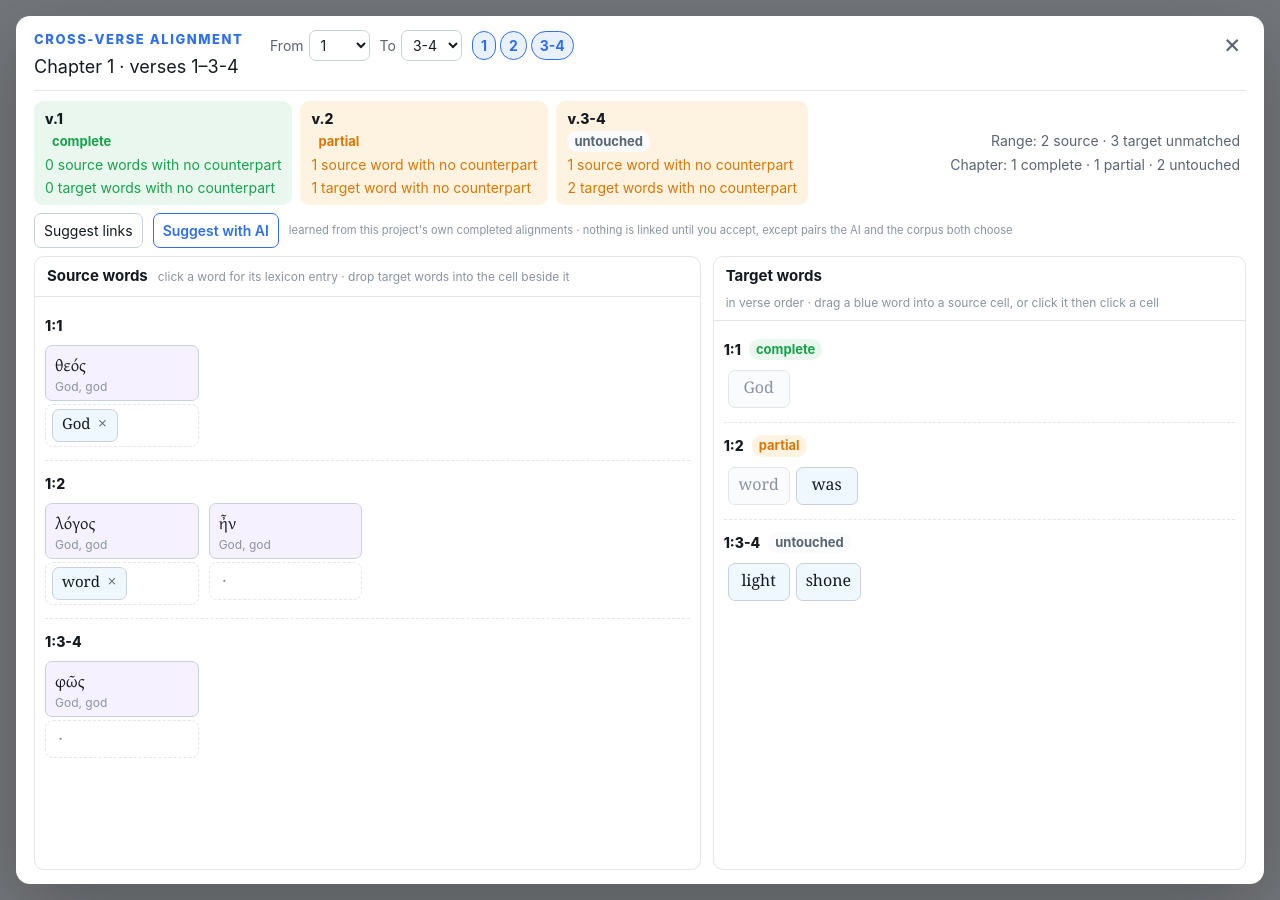
CrossVerseAlignmentModal › a cross-verse drop records a Bridge-private link (#117), patches both verses and rechecks each
Check: the 2nd text "1:2" is shown, box x1=45 y1=472 x2=65 y2=494
Click the button "was" at (827, 486), box x1=796 y1=466 x2=858 y2=504
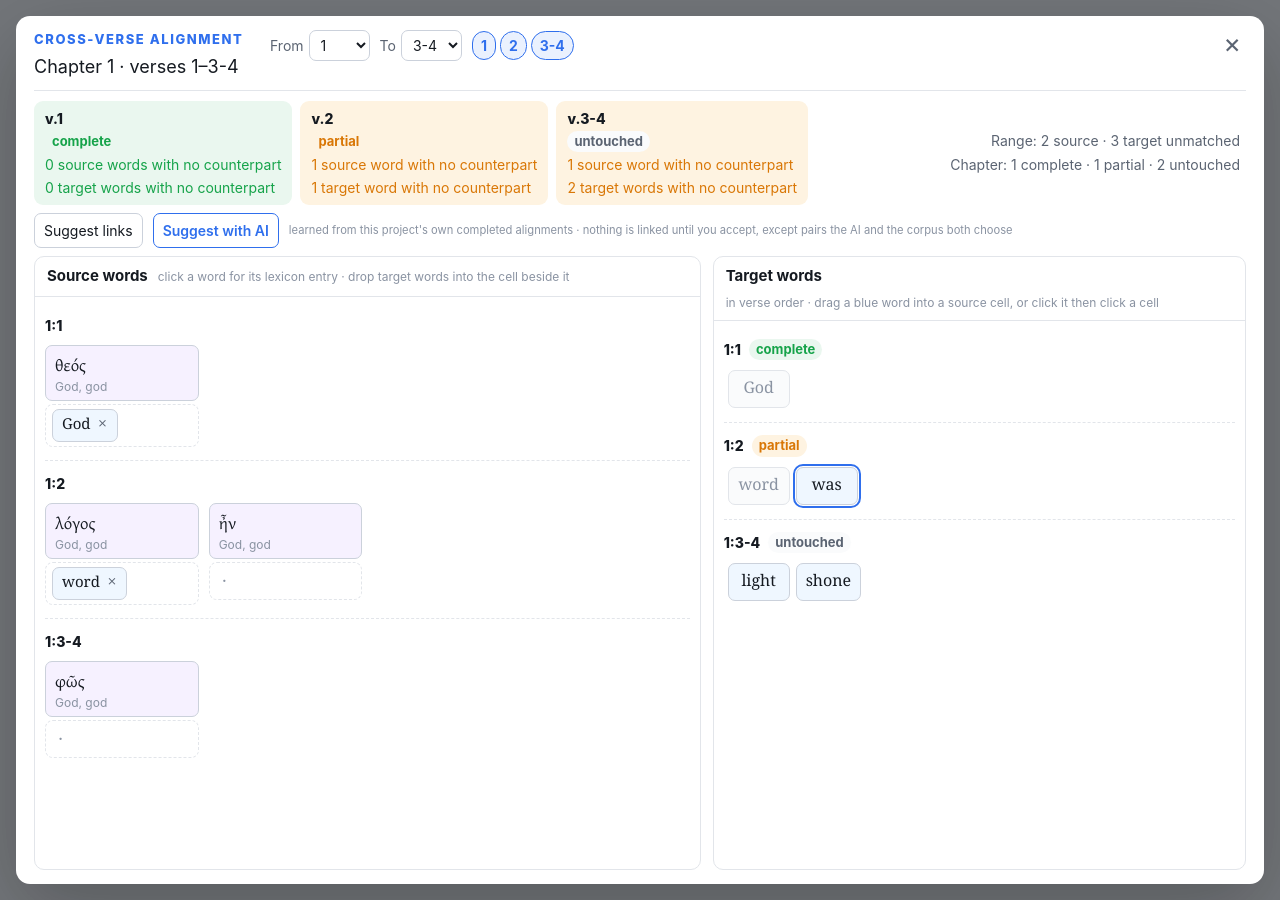
Click the button named "Align picked-up word to φῶς in verse 3-4" at (122, 739), box x1=45 y1=720 x2=199 y2=758
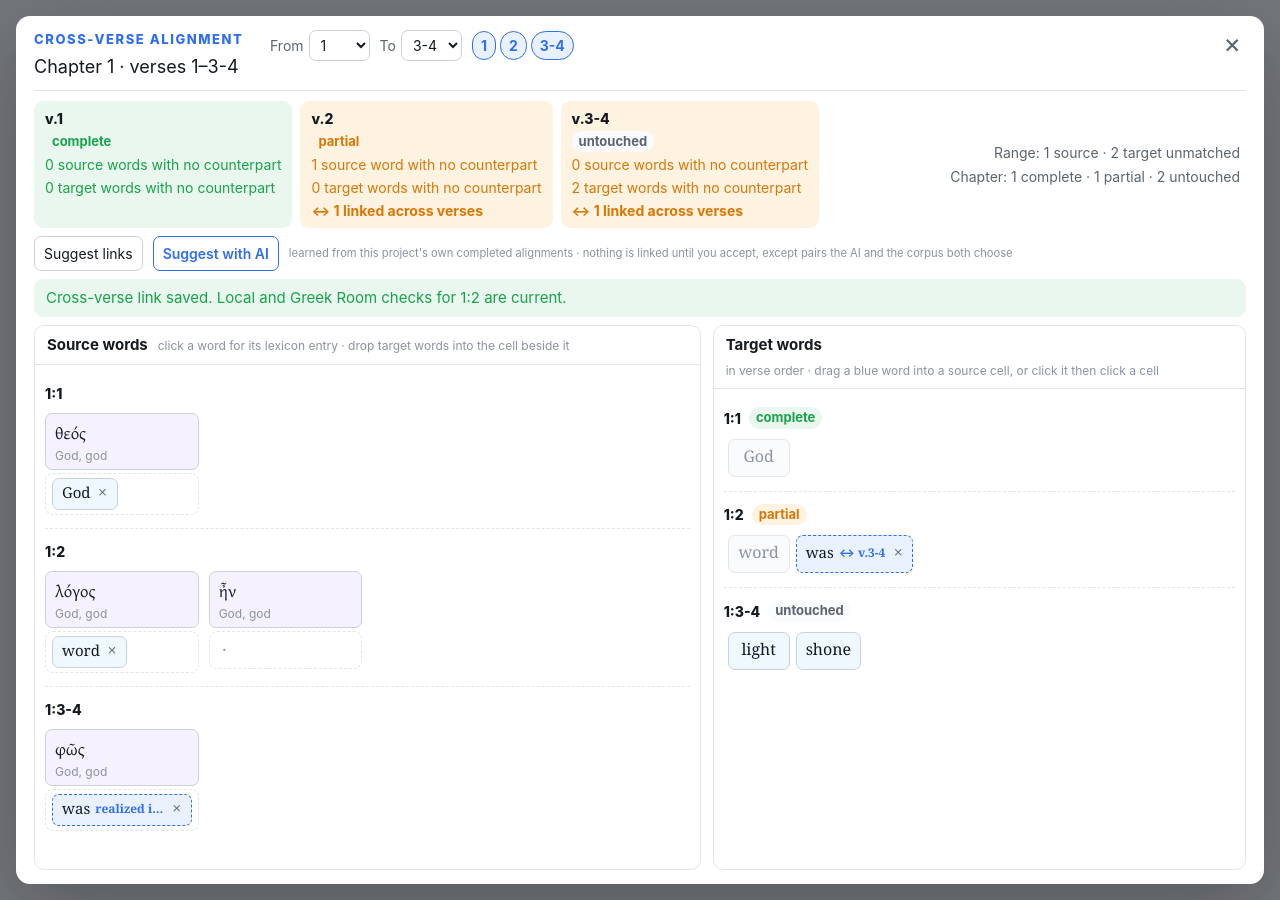
Check: the text "Cross-verse link saved" is shown, box x1=46 y1=288 x2=566 y2=307
Check: the text "realized in v.2" is shown, box x1=95 y1=801 x2=164 y2=819
Check: the text "↔ v.3-4" is shown, box x1=839 y1=545 x2=885 y2=563
